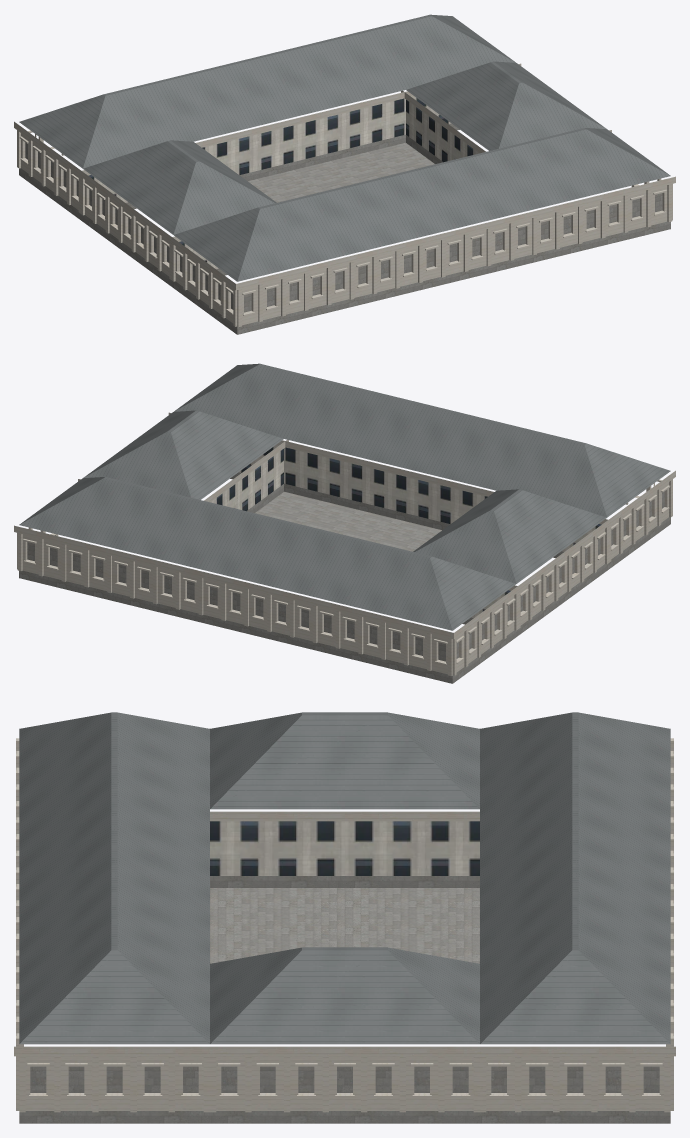
Rendered from freer.glb.
The picture shows the model from 3 angles, top to bottom: view 1: azimuth 30°, elevation 25°; view 2: azimuth 150°, elevation 25°; view 3: azimuth 270°, elevation 25°; orthographic projection. The views are drawn at different scales.
Visible parts, largest first — view 1: freer; view 2: freer; view 3: freer.
Boxes of the visible parts, x1,y1,x2,y2 form: freer: [14, 14, 675, 334]; freer: [14, 363, 675, 683]; freer: [14, 712, 675, 1123].
Bounding box in the file's own units: 71.5 × 14 × 62.5.
Materials: 4 (4 with a texture image).
